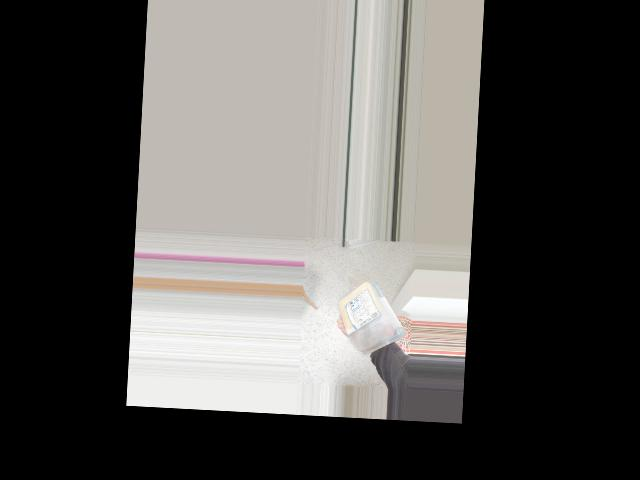cheese: (336, 281, 398, 349)
